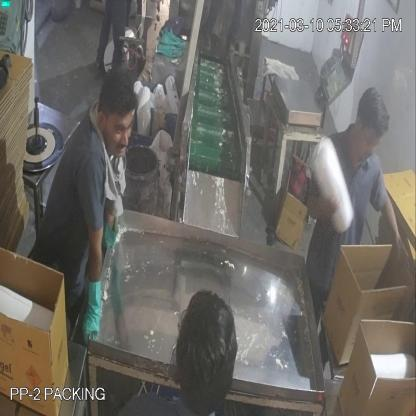glove: (79, 259, 105, 352)
no_glove: (374, 183, 411, 270)
